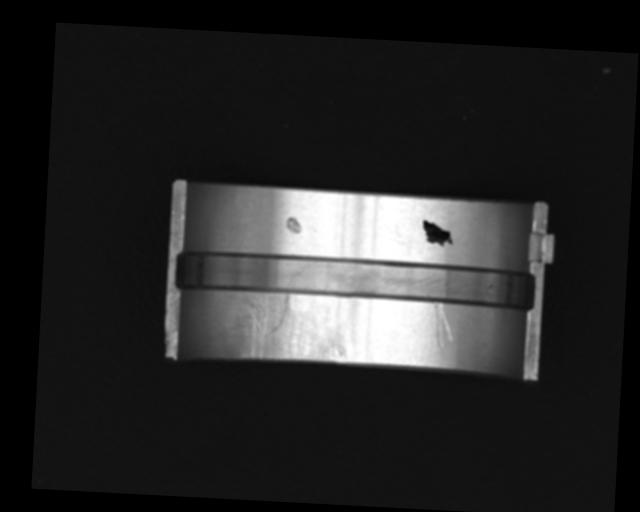blot: (420, 219, 454, 248)
bruise: (284, 215, 303, 234)
gap: (173, 248, 538, 309)
nick: (432, 302, 453, 350)
scratch: (228, 291, 349, 364)
